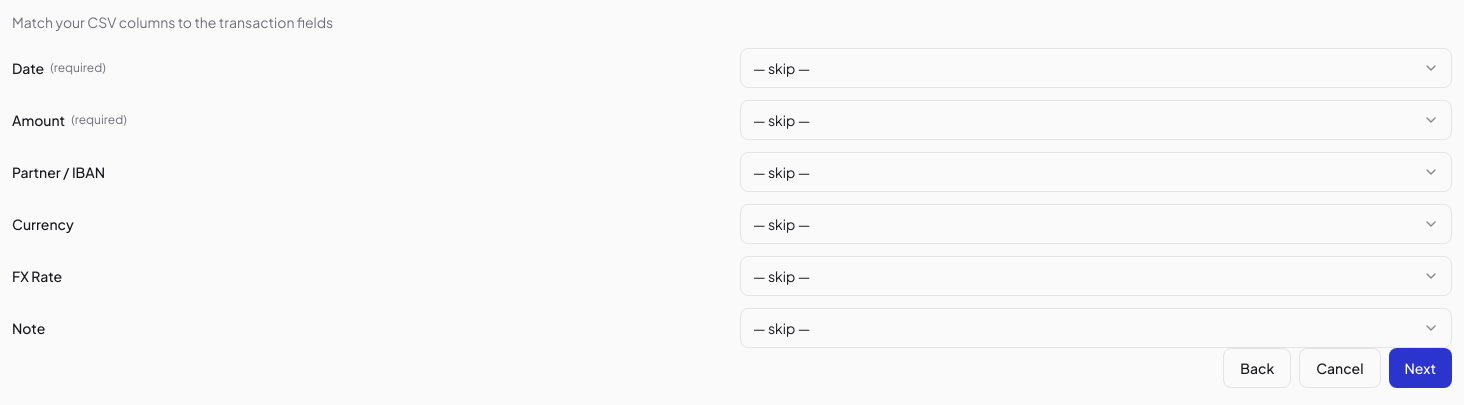
Scenario: MappingStep › displays friendly labels for no-header-column tokens in dropdown
The width and height of the screenshot is (1464, 405).
# Open the dropdown for the date field
Click the dropdown labelled "— skip —" in the row of "Date".
click(782, 68)  # box x1=740 y1=48 x2=1452 y2=88
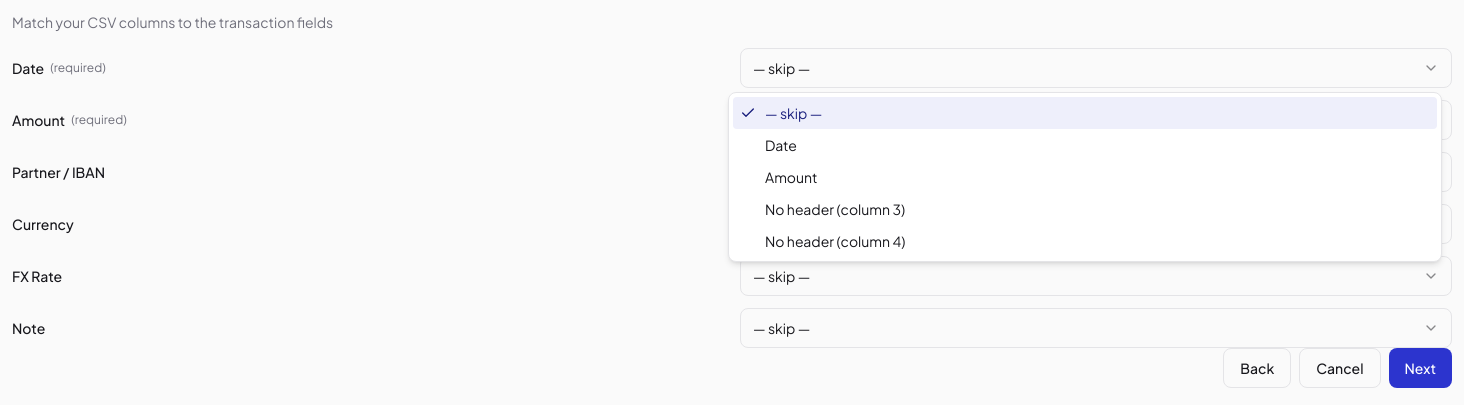
Now the text "No header (column 3)" is shown, box x1=765 y1=199 x2=905 y2=219
Now the text "No header (column 4)" is shown, box x1=765 y1=231 x2=905 y2=251
